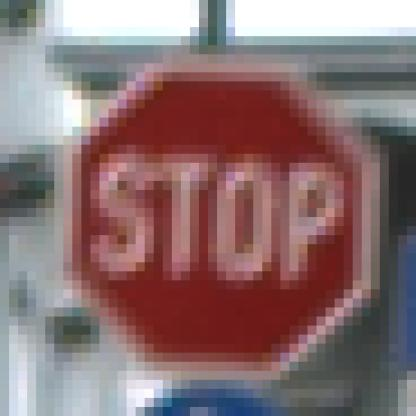Stop: (69, 70, 367, 373)
